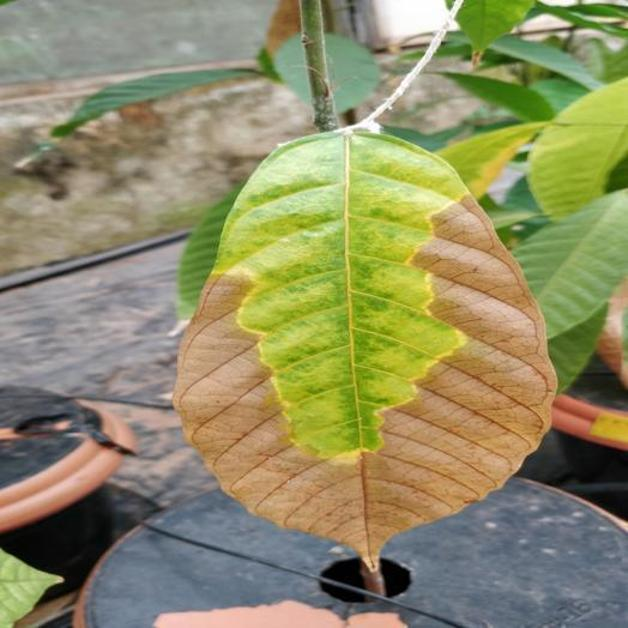Potassium: (174, 123, 555, 571)
